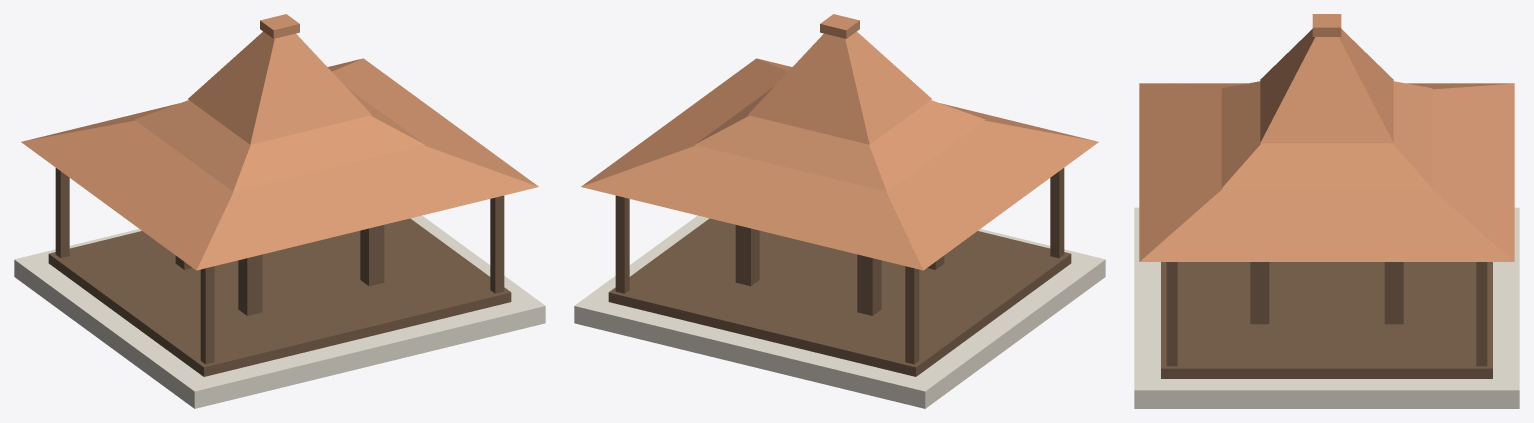
Rendered from joglo.glb.
3 views of the same model, side by side, from view 1: azimuth 30°, elevation 25°; view 2: azimuth 150°, elevation 25°; view 3: azimuth 270°, elevation 25° (orthographic). The views are drawn at different scales.
Visible parts, largest first — view 1: joglo_atap_emper, joglo_lantai, joglo_alas, joglo_atap_penanggap, joglo_atap_brunjung, joglo_saka_tepi_1, joglo_saka_tepi_0, joglo_saka_guru_1, joglo_saka_guru_0, joglo_saka_tepi_2, joglo_bubungan; view 2: joglo_atap_emper, joglo_lantai, joglo_alas, joglo_atap_penanggap, joglo_atap_brunjung, joglo_saka_tepi_3, joglo_saka_tepi_2, joglo_saka_guru_3, joglo_saka_guru_2, joglo_saka_tepi_0, joglo_bubungan; view 3: joglo_atap_emper, joglo_lantai, joglo_alas, joglo_atap_penanggap, joglo_atap_brunjung, joglo_saka_guru_1, joglo_saka_guru_3, joglo_saka_tepi_1, joglo_saka_tepi_3, joglo_bubungan.
Boxes of the visible parts, box(x1,y1,x2,y2) form: joglo_atap_emper: box(21, 58, 538, 270); joglo_lantai: box(48, 218, 511, 376); joglo_alas: box(14, 215, 545, 408); joglo_atap_penanggap: box(135, 87, 424, 191); joglo_atap_brunjung: box(188, 31, 371, 144); joglo_saka_tepi_1: box(490, 195, 504, 293); joglo_saka_tepi_0: box(200, 266, 214, 364); joglo_saka_guru_1: box(360, 225, 384, 286); joglo_saka_guru_0: box(238, 254, 262, 315); joglo_saka_tepi_2: box(55, 168, 69, 257); joglo_bubungan: box(260, 14, 299, 38); joglo_atap_emper: box(581, 58, 1098, 270); joglo_lantai: box(608, 218, 1071, 376); joglo_alas: box(574, 215, 1105, 408); joglo_atap_penanggap: box(695, 87, 984, 191); joglo_atap_brunjung: box(748, 31, 931, 144); joglo_saka_tepi_3: box(615, 195, 629, 293); joglo_saka_tepi_2: box(905, 266, 919, 364); joglo_saka_guru_3: box(735, 225, 759, 286); joglo_saka_guru_2: box(857, 254, 881, 315); joglo_saka_tepi_0: box(1050, 168, 1064, 257); joglo_bubungan: box(820, 14, 859, 38); joglo_atap_emper: box(1139, 83, 1514, 261); joglo_lantai: box(1161, 262, 1492, 378); joglo_alas: box(1134, 207, 1519, 408); joglo_atap_penanggap: box(1221, 81, 1432, 188); joglo_atap_brunjung: box(1260, 29, 1393, 143); joglo_saka_guru_1: box(1250, 262, 1269, 324); joglo_saka_guru_3: box(1384, 262, 1403, 324); joglo_saka_tepi_1: box(1166, 262, 1177, 366); joglo_saka_tepi_3: box(1476, 262, 1487, 366); joglo_bubungan: box(1312, 14, 1341, 36).
Size of the model in its own units: 5.48 by 4.15 by 4.88.
